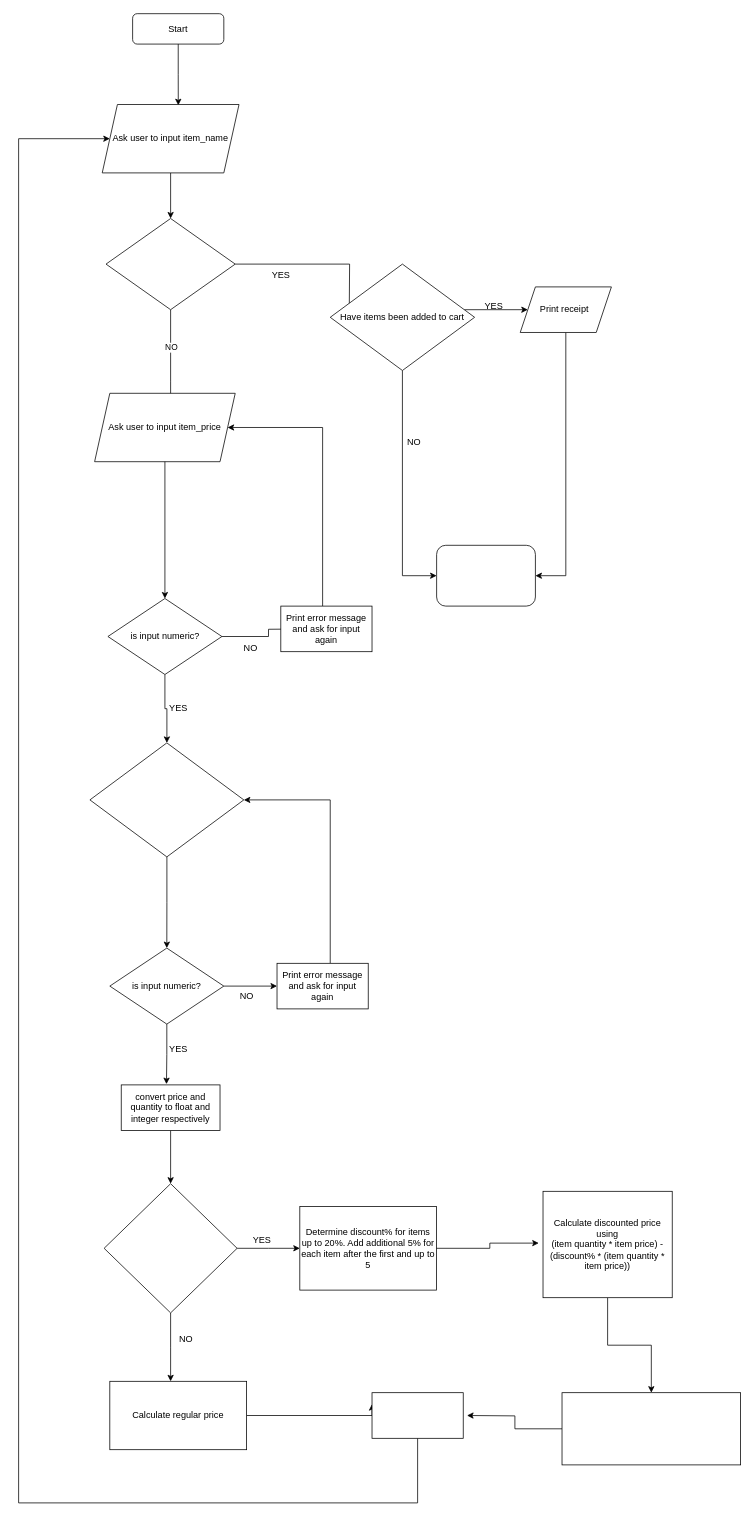
The diagram is 754 pixels wide and 1522 high, and some of its shapes have lost their labels. The centre of each missing label's shape, as x and y in pixels:
Ask user to input item_quantity: point (166, 799)
END: point (485, 575)
Is item_name in discount list and 1<item_quantity<6: point (170, 1248)
Is users input = Enter?: point (170, 264)
Store Item_name, price, quantity and total price: point (417, 1415)
total saved += (discount item normal price - discounted price): point (651, 1428)
